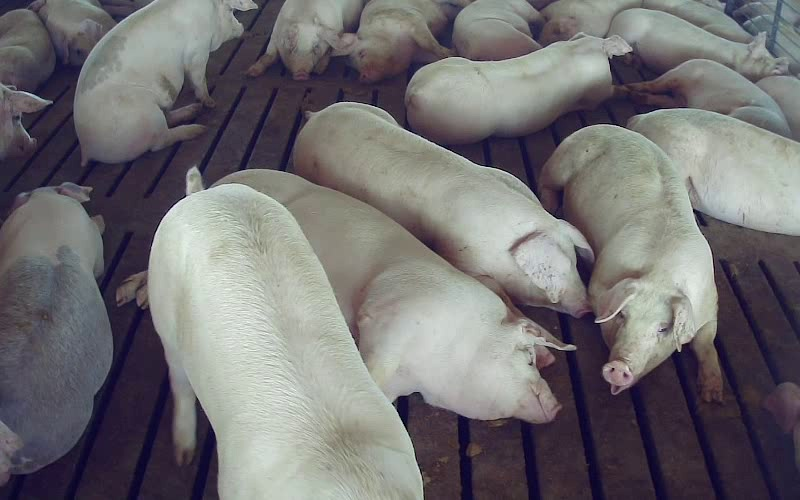pig: (148, 170, 421, 499), (220, 170, 573, 423), (294, 102, 591, 316), (539, 125, 722, 401), (0, 183, 111, 473), (405, 33, 631, 143), (628, 109, 799, 235), (608, 8, 787, 81), (626, 60, 790, 137), (348, 0, 463, 82), (452, 0, 543, 60), (37, 0, 116, 65)
